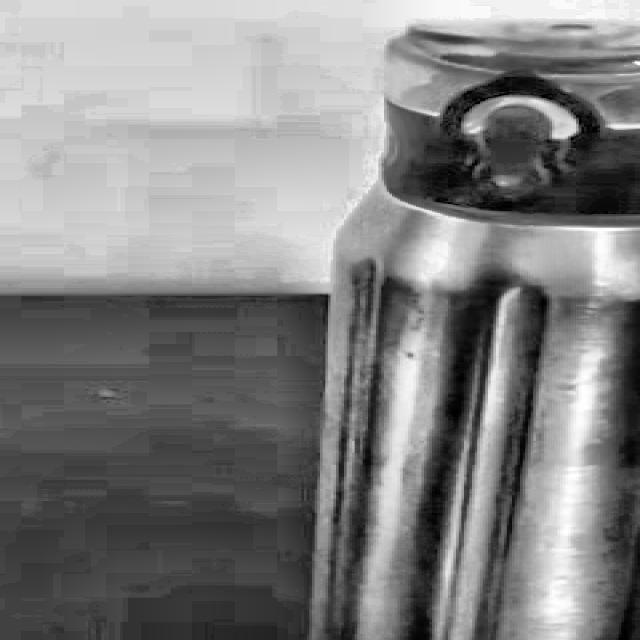bottle: (308, 23, 640, 640)
